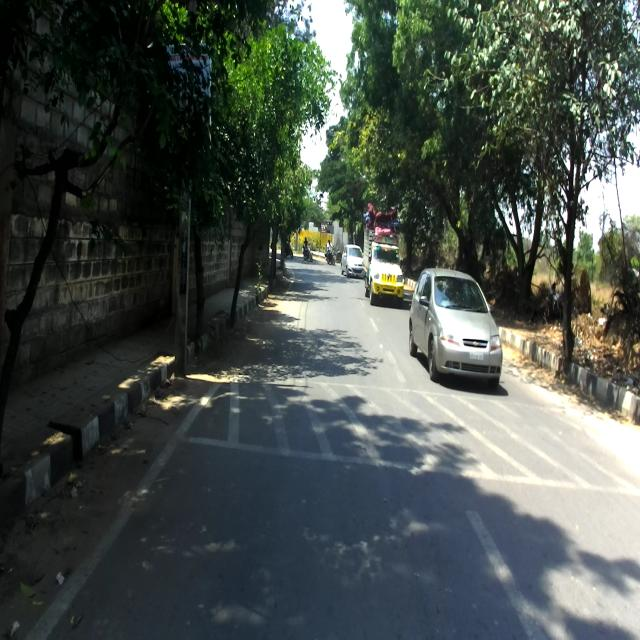car ahead at: (410, 261, 504, 389)
electric pole ahead at: (169, 0, 206, 387)
